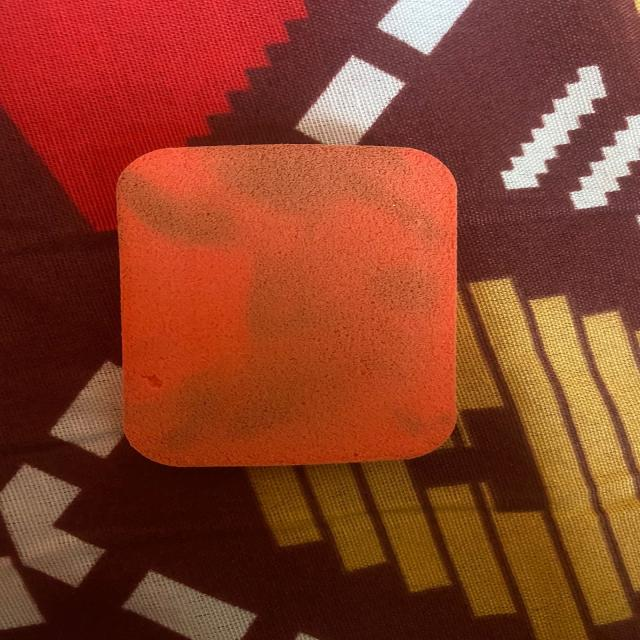beauty blender: (92, 124, 475, 480)
